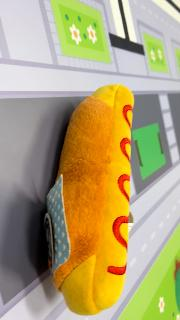hotdog: (46, 84, 136, 316)
